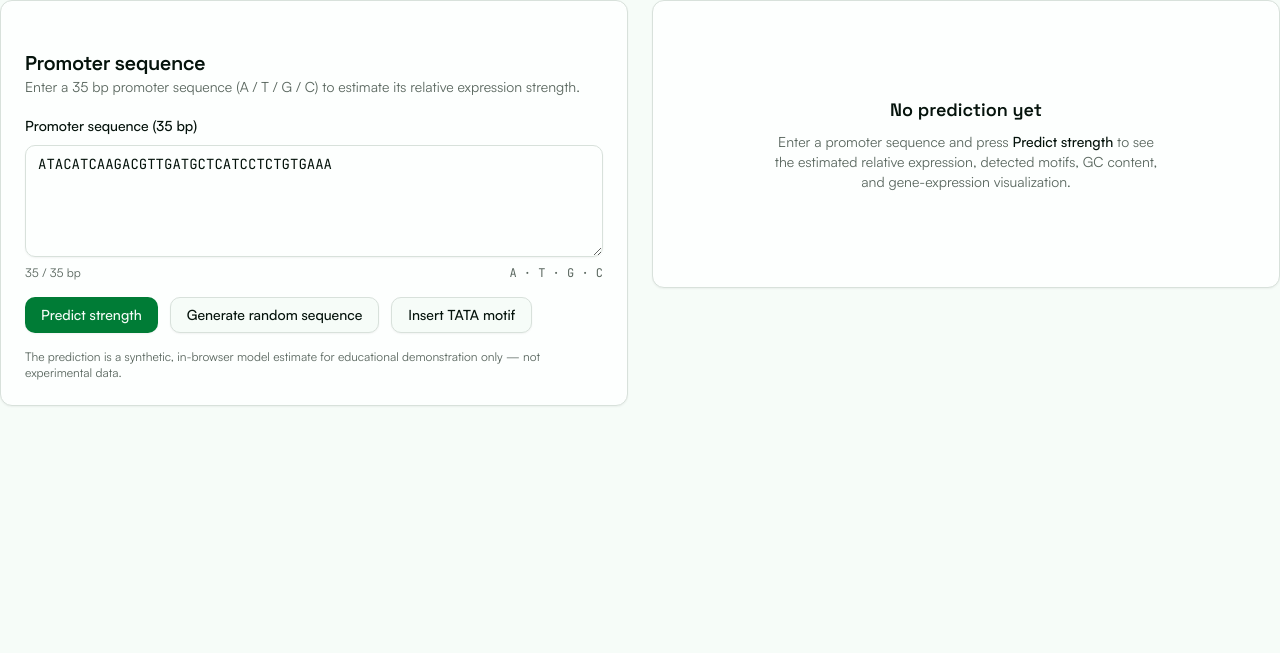
Scenario: PredictPage › shows a non-zero percentage and a strength label for a valid sequence
Replace the text in the text box with test id "sequence.input" with "TTGACGGCTAGCTCAGTCCTAGGTACAGTGCTAGC": (314, 201) [25, 145, 603, 257]
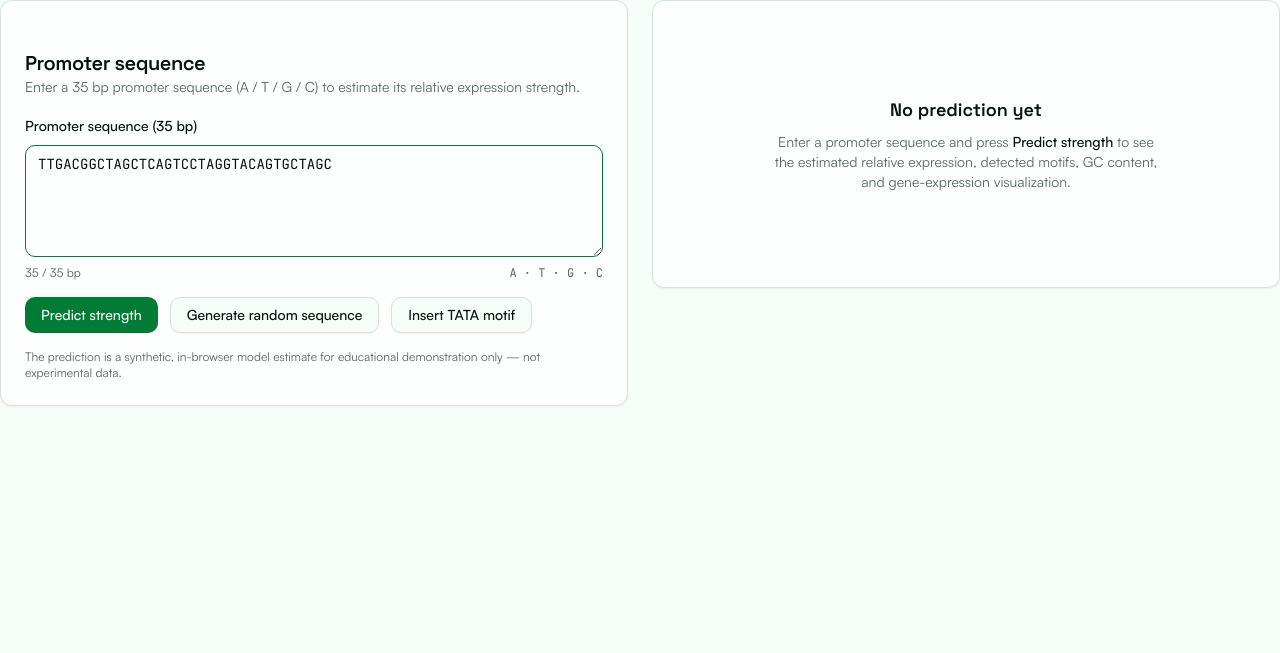
Click the button with test id "predict_button": (91, 315) [25, 297, 158, 333]
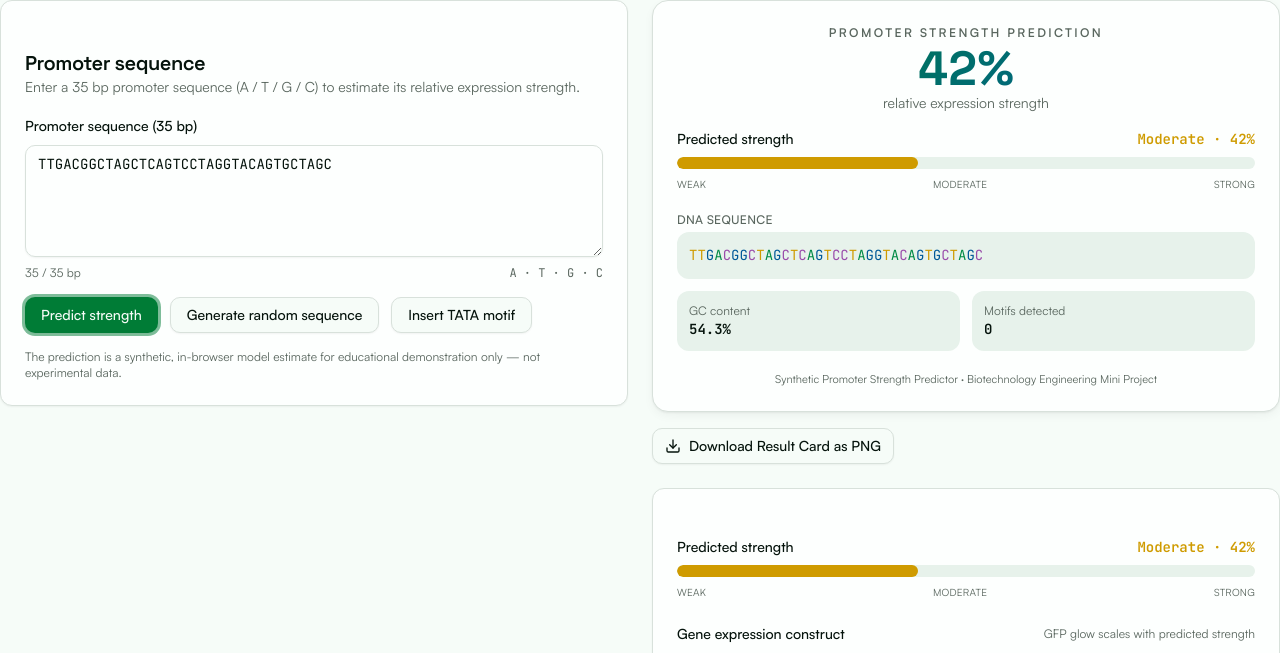
Result: the text "Moderate · 42%" below "Promoter strength prediction" is shown at [1137, 129, 1255, 149]
